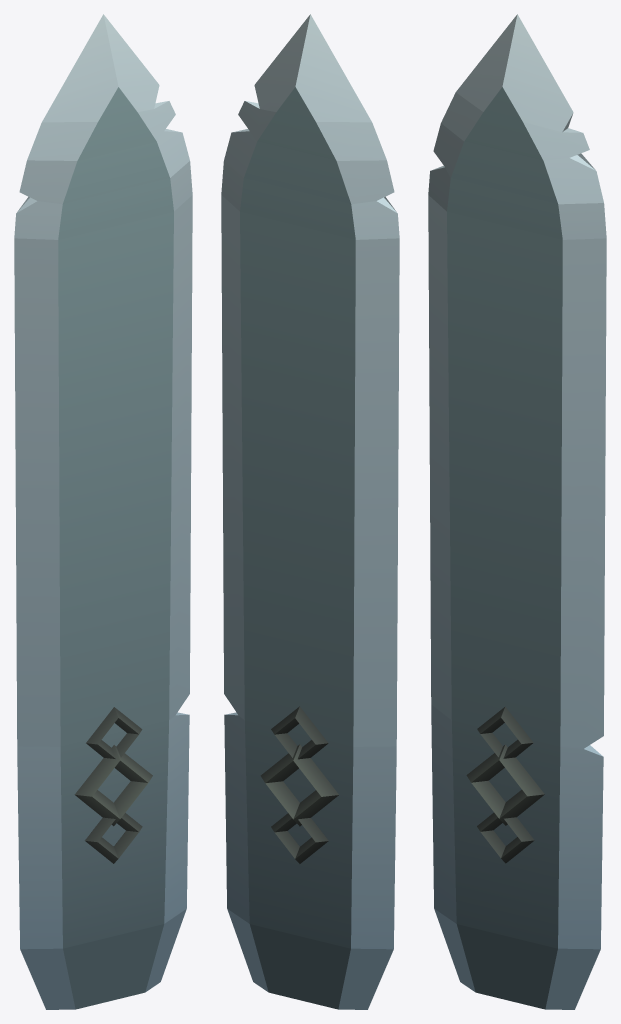
The model's file is blade_011.fbx.
3 renders of one model, left to right at view 1: azimuth 30°, elevation 25°; view 2: azimuth 150°, elevation 25°; view 3: azimuth 330°, elevation 25°, orthographic.
Parts seen in each view (by area): view 1: blade.011; view 2: blade.011; view 3: blade.011.
Boxes of the visible parts, box(x1,y1,x2,y2) form: blade.011: box(14, 14, 192, 1009); blade.011: box(221, 14, 399, 1009); blade.011: box(428, 14, 606, 1009).
Bounding box in the file's own units: 27.03 × 142 × 9.27.
